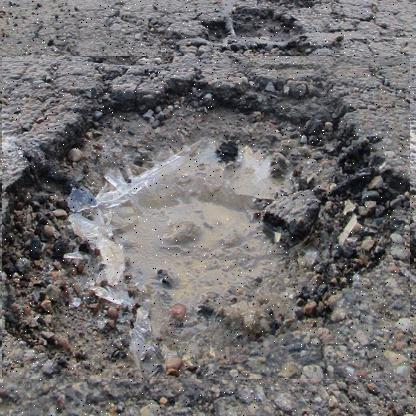pothole: (1, 56, 410, 380)
